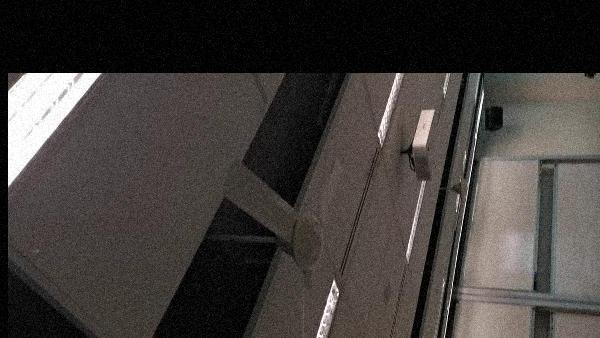light_on: (8, 73, 106, 201), (286, 272, 345, 338), (367, 73, 412, 147), (399, 173, 432, 272), (437, 73, 454, 100)
